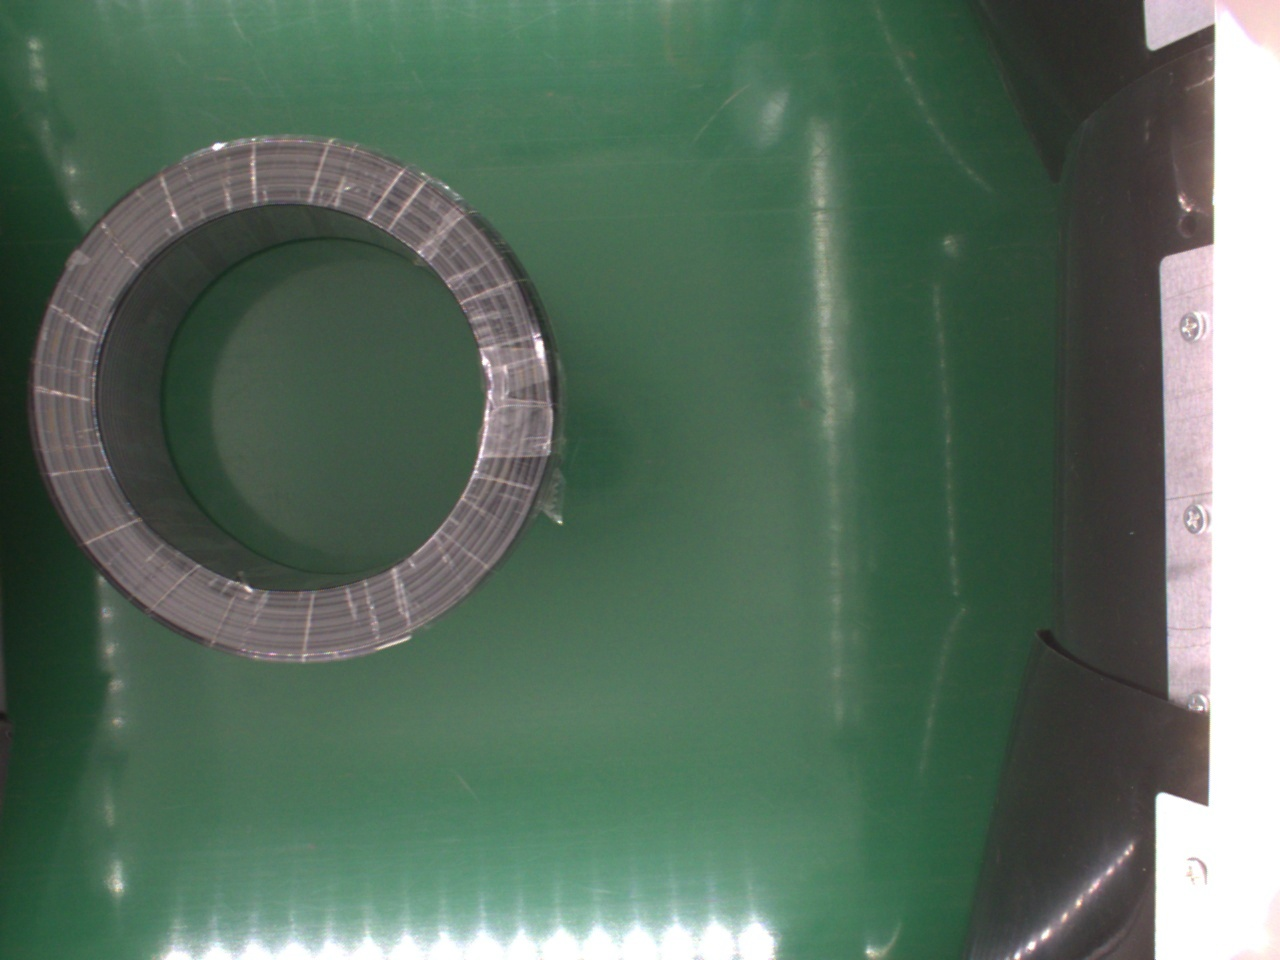black: (30, 136, 560, 664)
